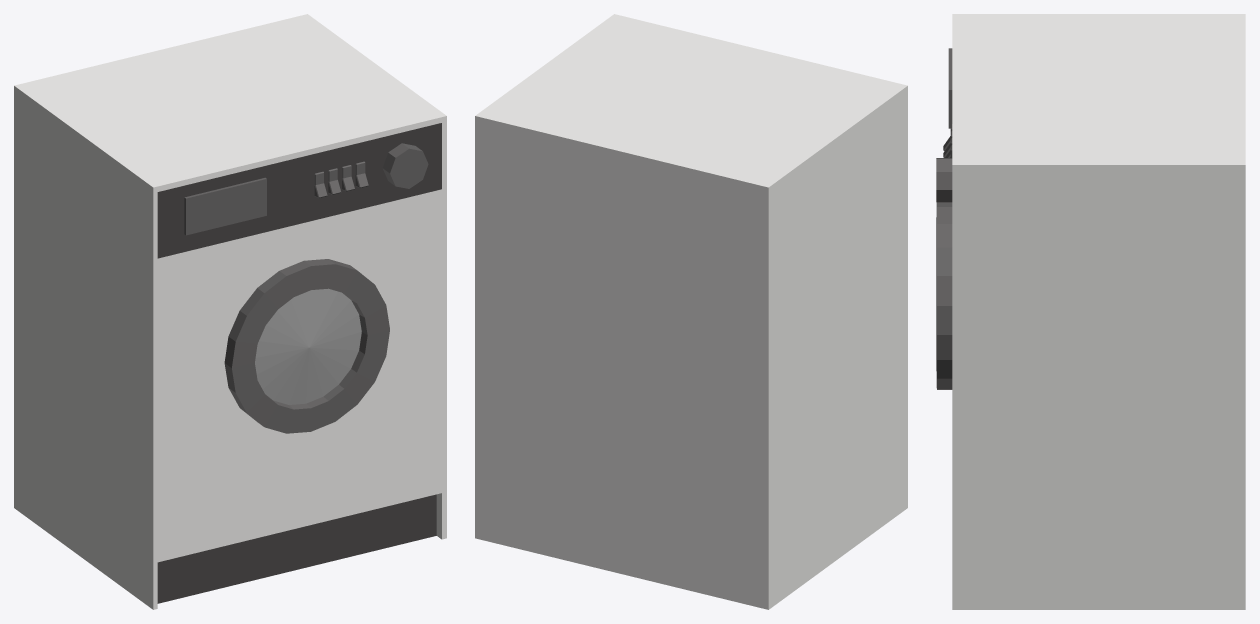
The model's file is Washer.fbx.
The picture shows the model from 3 angles, left to right: view 1: azimuth 30°, elevation 25°; view 2: azimuth 150°, elevation 25°; view 3: azimuth 270°, elevation 25°; orthographic projection. The views are drawn at different scales.
Parts seen in each view (by area): view 1: Washer; view 2: Washer; view 3: Washer.
Part boxes in pixels (box(x1,y1,x2,y2)): Washer: box(14, 14, 446, 609); Washer: box(475, 14, 907, 609); Washer: box(936, 14, 1245, 609).
Bounding box in the file's own units: 99.06 × 85.79 × 136.
